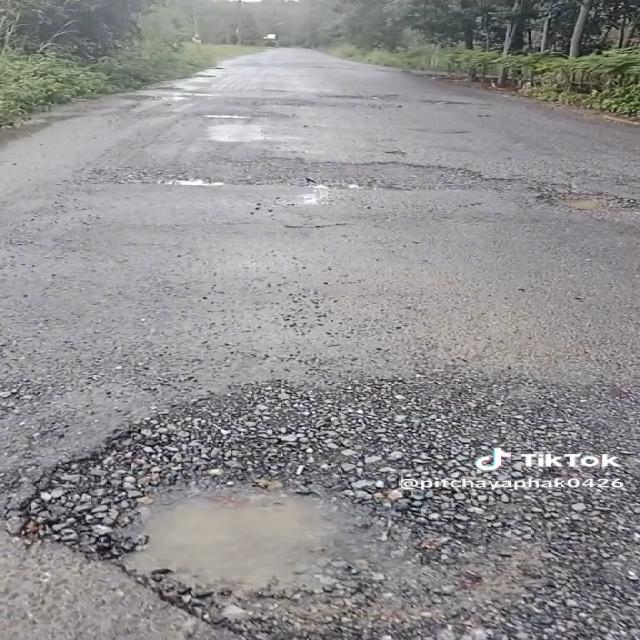Poth-hole: (271, 164, 419, 229)
